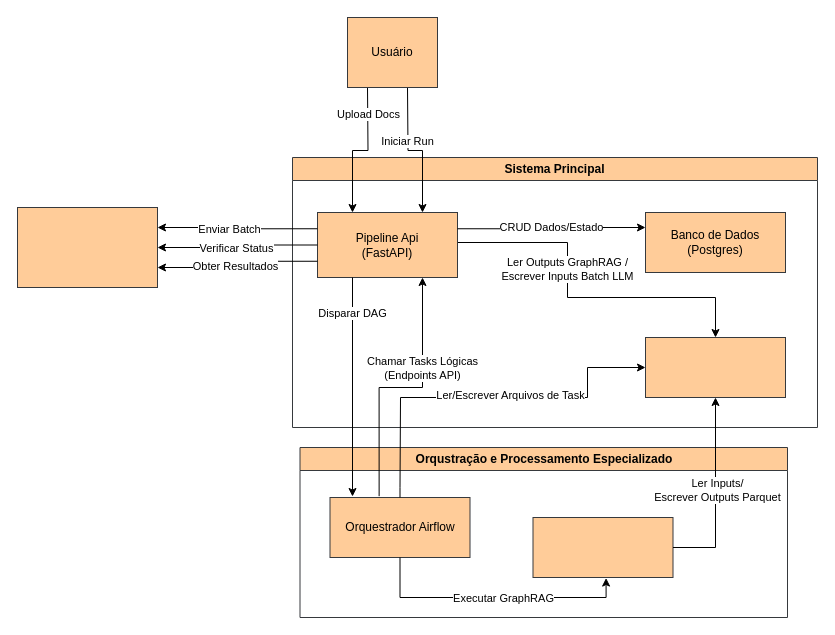
The diagram is 835 pixels wide and 635 high, and some of its shapes have lost their labels. Here are the shapes that lost their labels. From the top down, the box of each, then its label:
(16, 206, 158, 288): Provedor LLM (OpenAI)
(644, 336, 786, 398): Volume Compartilhado
(532, 516, 673, 578): GraphRAG
